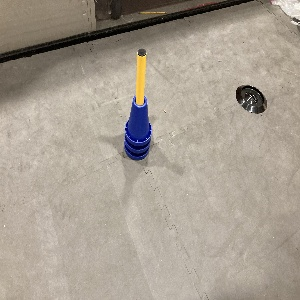Blue_3: (124, 94, 152, 159)
